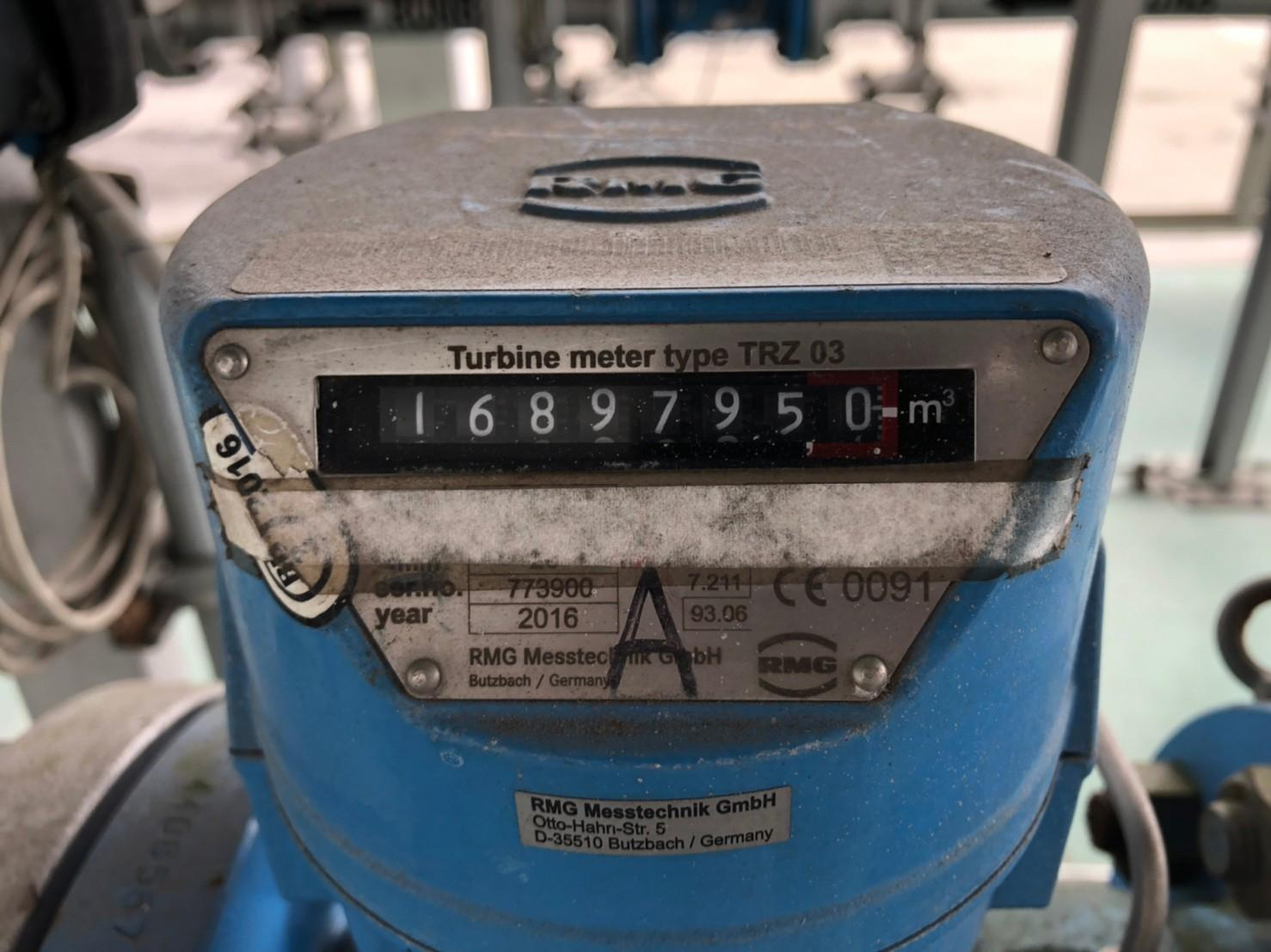analog_dial: (316, 369, 975, 473)
